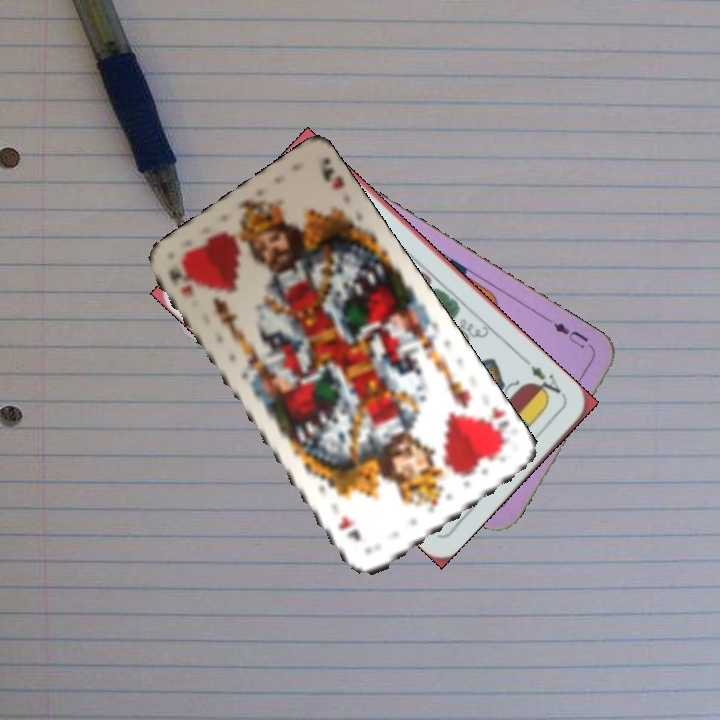EA: (526, 361, 568, 402)
EU: (549, 318, 591, 351)
HK: (477, 401, 513, 454), (164, 264, 197, 300)
